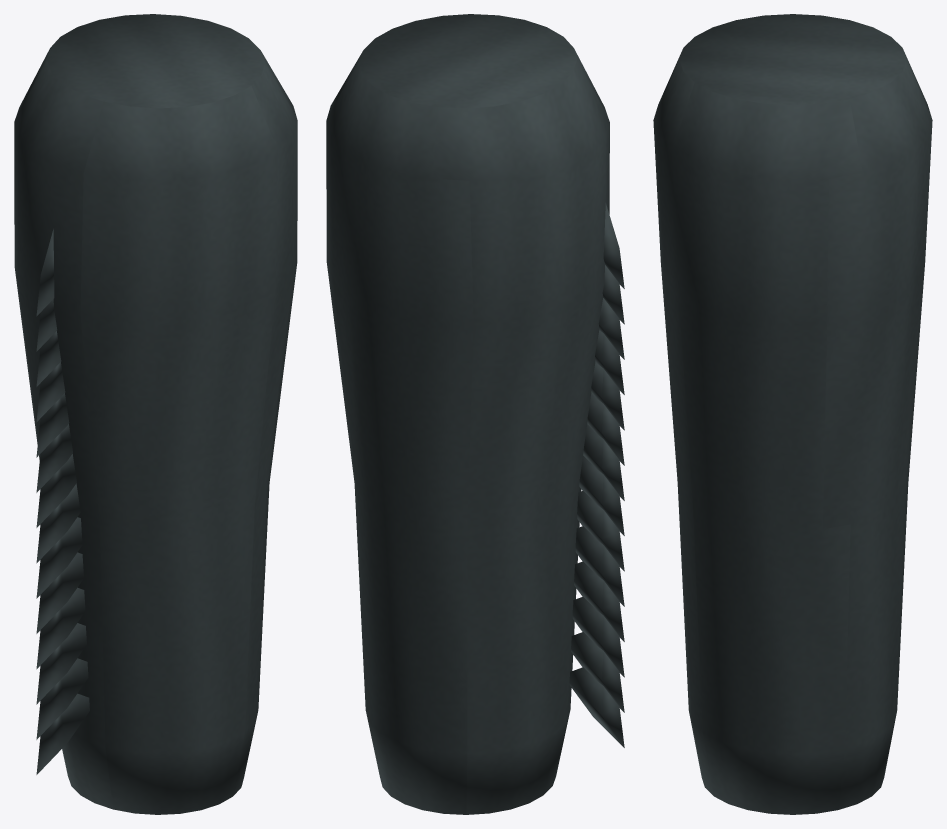
Rendered from upper_arm_r_lod0.glb.
The picture shows the model from 3 angles, left to right: view 1: azimuth 30°, elevation 25°; view 2: azimuth 150°, elevation 25°; view 3: azimuth 270°, elevation 25°; orthographic projection.
Visible parts, largest first — view 1: dormin_upper_arm_r_LOD0; view 2: dormin_upper_arm_r_LOD0; view 3: dormin_upper_arm_r_LOD0.
Boxes of the visible parts, x1,y1,x2,y2 form: dormin_upper_arm_r_LOD0: (14,14,297,814); dormin_upper_arm_r_LOD0: (326,14,624,814); dormin_upper_arm_r_LOD0: (653,14,932,814).
Size of the model in its own units: 1.64 by 4.26 by 1.5.
Materials: 1 (1 with a texture image).
